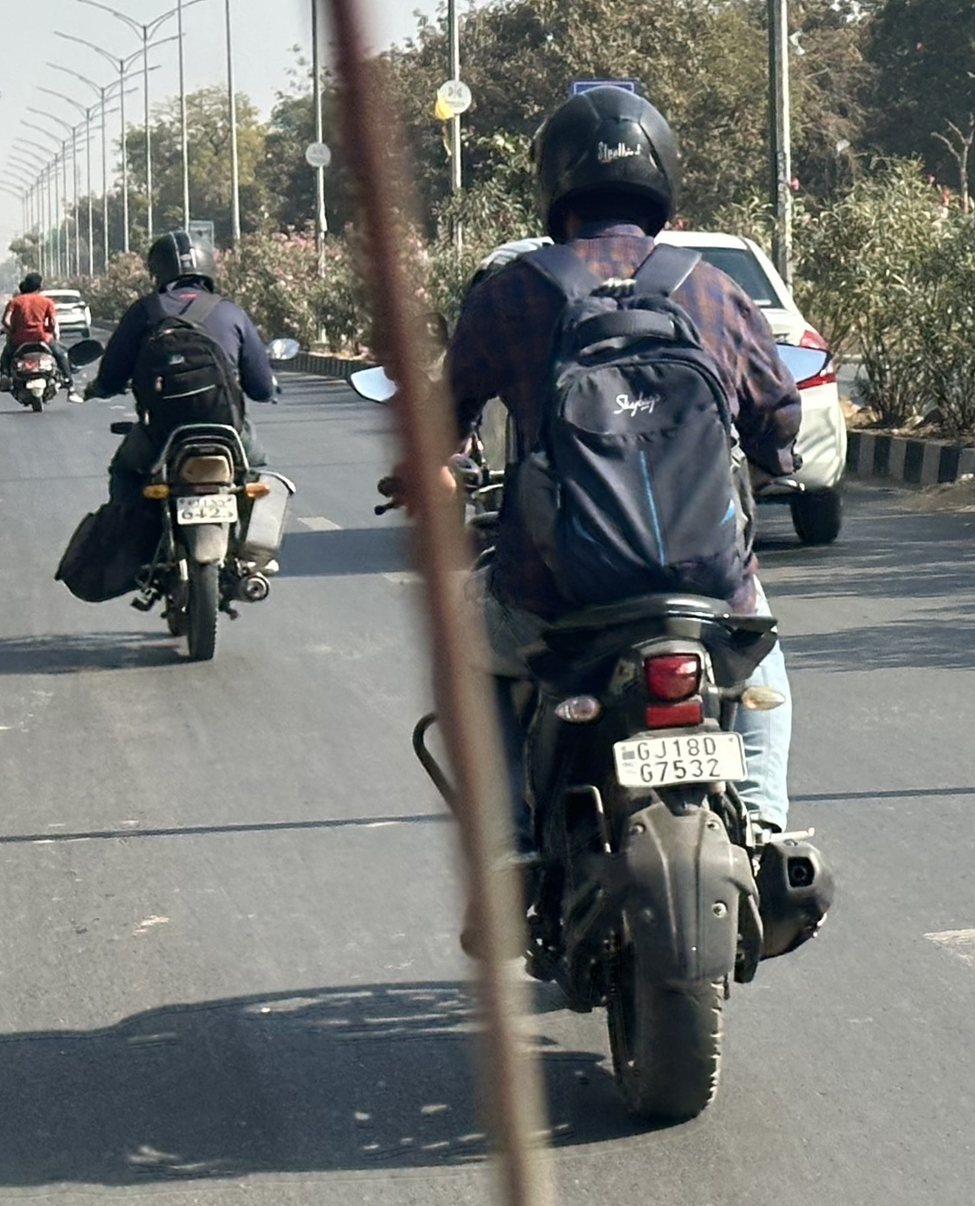BikeWithRider: (338, 70, 849, 1144), (46, 218, 309, 671), (0, 265, 84, 415)
Helmet: (516, 71, 695, 253), (133, 219, 230, 302)
NoHelmet: (15, 269, 46, 303)
